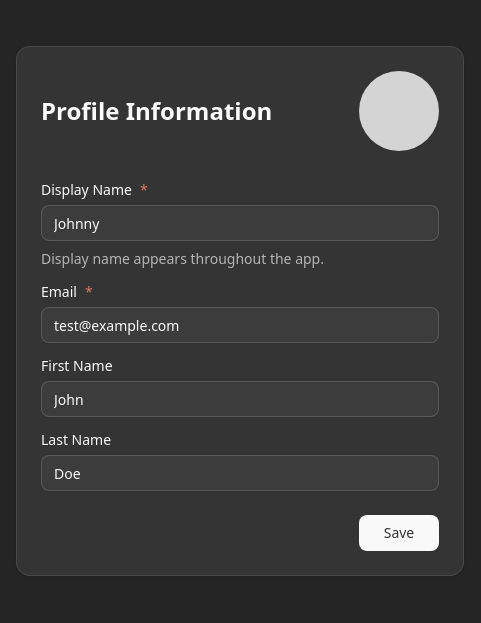
Test: Account › Form Submission › successfully updates user profile
# Data is pre-loaded by route loader
Step 1. Replace the text in the field labelled "Display Name" with "Updated Name" → (240, 223), box [41,205,439,241]
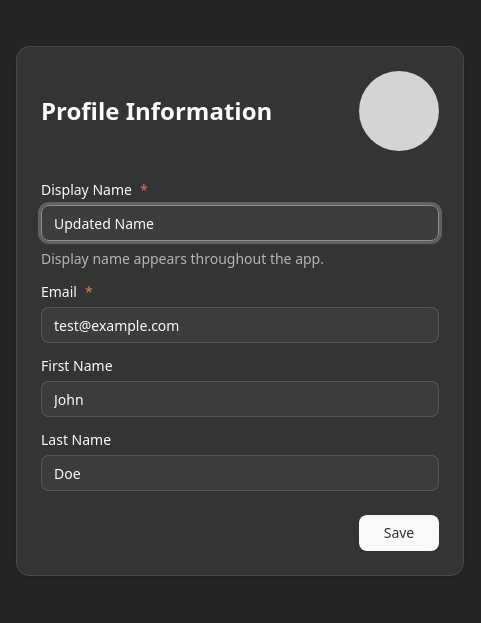
Step 2. Click the button "Save" → (399, 533), box [359,515,439,551]
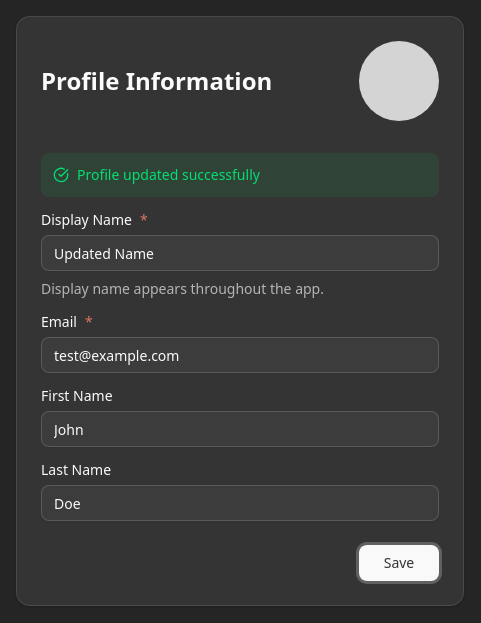
Check: the text "Profile updated successfully" is shown, box [77,165,260,185]
